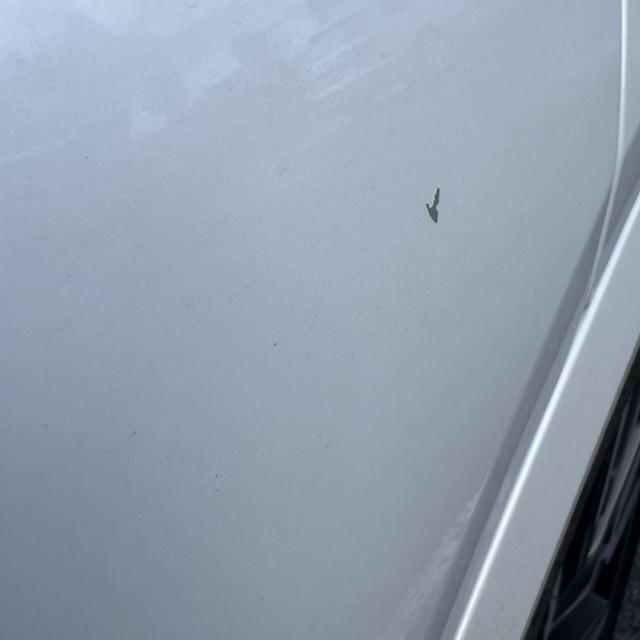dents: (418, 166, 479, 260)
